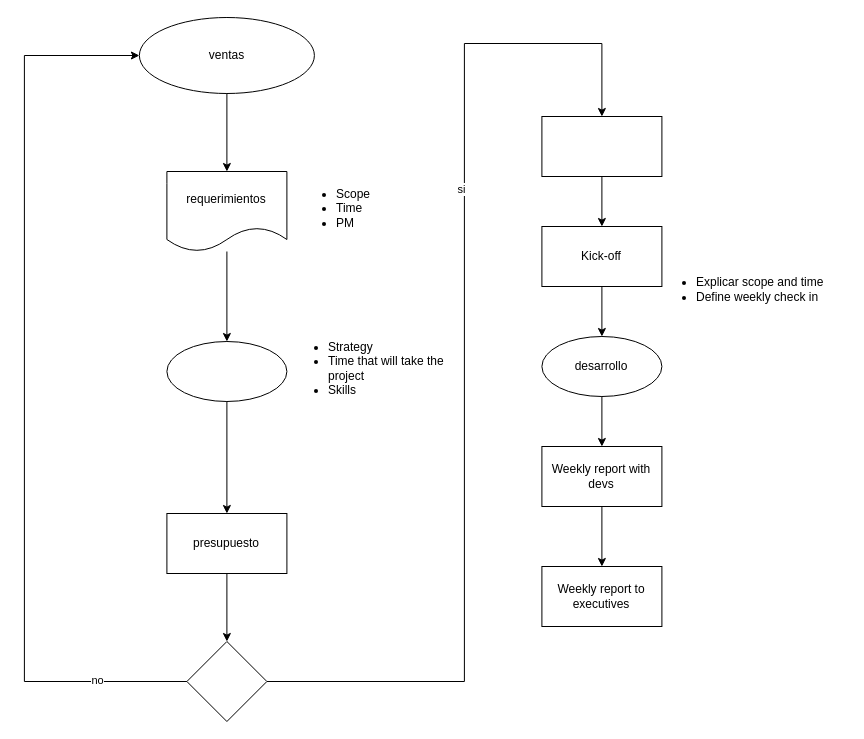
This 864x739 diagram has some shape labels left out. The shapes that lost their labels are listed below. From the top down, each one's box as (x1, y1, x2, y2) in pixels, then its label:
(541, 116, 662, 176): Definir equipo
(166, 340, 287, 402): anailisis website
(186, 640, 267, 722): cliente acepta?
